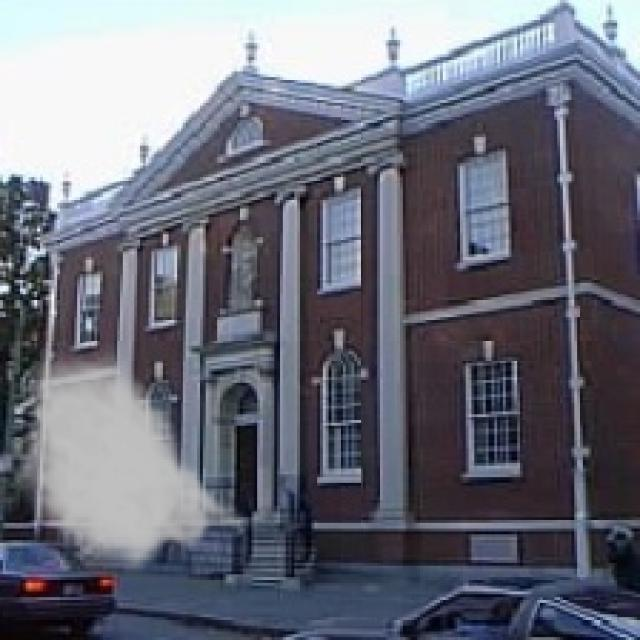Smoke: (14, 340, 257, 577)
